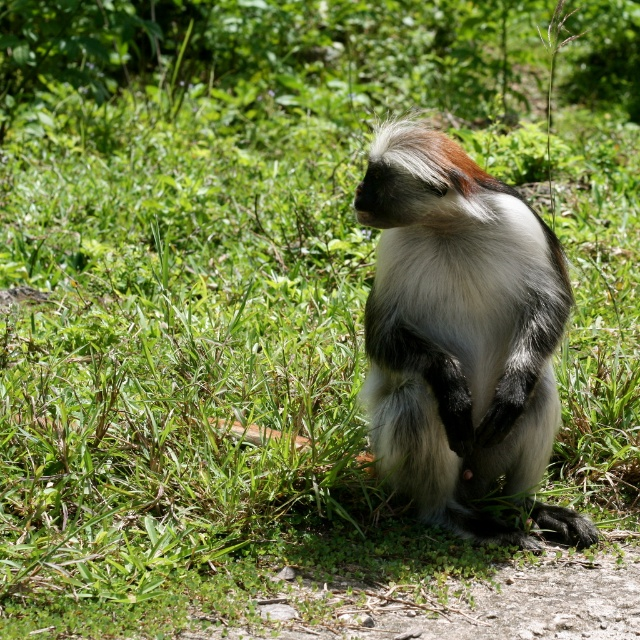Monkey: (349, 110, 604, 549)
